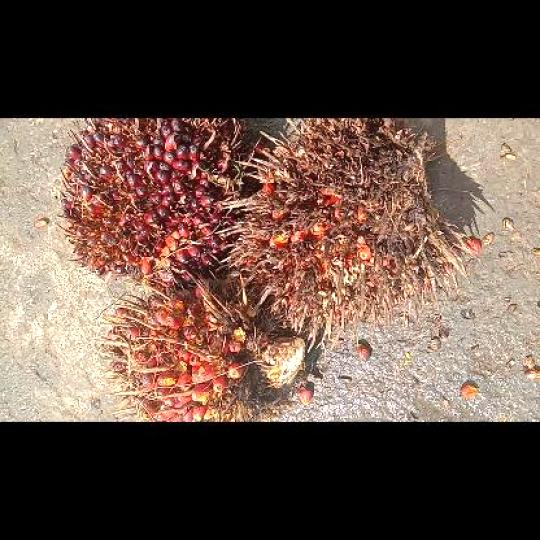masak: (57, 118, 245, 292), (95, 272, 305, 421)
terlalu masak: (215, 118, 478, 362)
